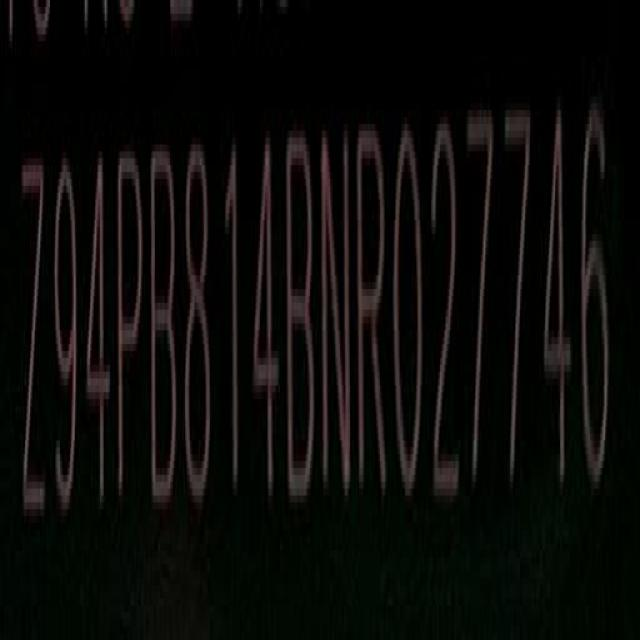0: (394, 116, 427, 508)
1: (224, 138, 243, 513)
2: (430, 112, 463, 510)
4: (544, 90, 576, 505), (252, 135, 282, 512), (86, 151, 115, 525)
6: (582, 102, 615, 502)
7: (465, 102, 497, 503), (505, 98, 536, 510)
8: (186, 142, 215, 512)
9: (50, 155, 78, 533)
B: (288, 128, 320, 511), (148, 143, 178, 518)
N: (321, 120, 354, 510)
P: (116, 147, 145, 519)
R: (356, 120, 388, 507)
Z: (19, 148, 48, 542)
